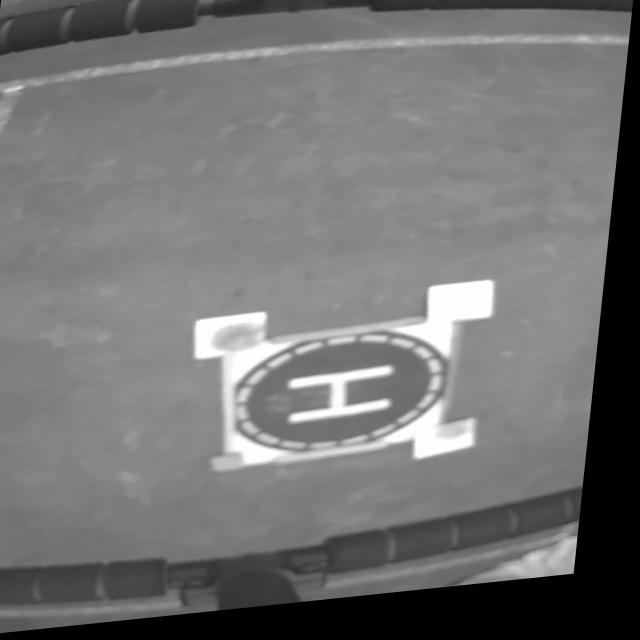Helipad: (294, 374, 404, 432)
